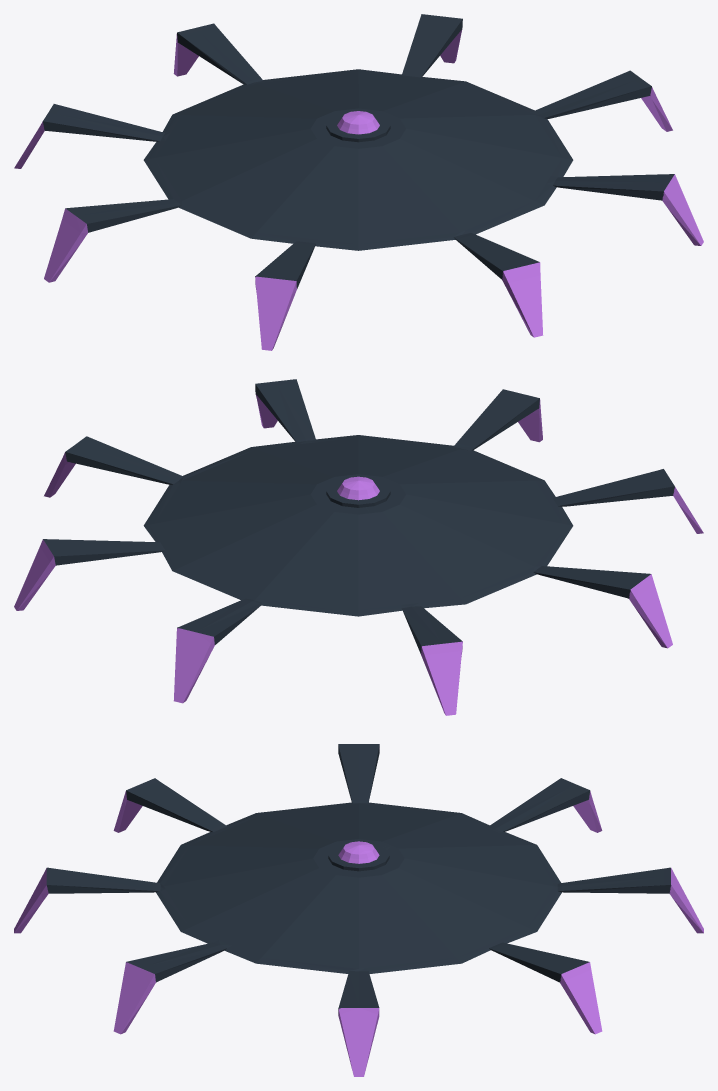
The model's file is Spider_Plant_000002.obj.
3 renders of one model, top to bottom at view 1: azimuth 30°, elevation 25°; view 2: azimuth 150°, elevation 25°; view 3: azimuth 270°, elevation 25°, orthographic. The views are drawn at different scales.
Parts seen in each view (by area): view 1: Circle_Circle.001; view 2: Circle_Circle.001; view 3: Circle_Circle.001.
Boxes of the visible parts, box(x1,y1,x2,y2) form: Circle_Circle.001: box(14, 14, 703, 350); Circle_Circle.001: box(14, 379, 703, 715); Circle_Circle.001: box(14, 744, 703, 1076).
Size of the model in its own units: 3.35 by 0.4606 by 3.35.
